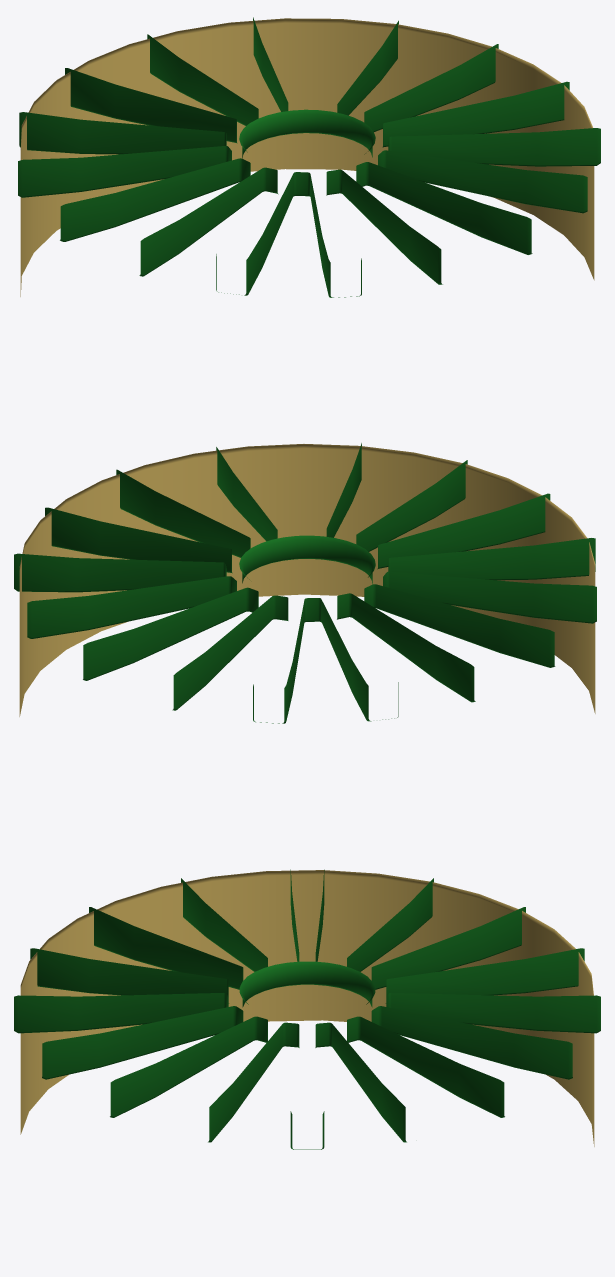
The model's file is brutalismModel_compressed.glb.
3 renders of one model, top to bottom at view 1: azimuth 30°, elevation 25°; view 2: azimuth 150°, elevation 25°; view 3: azimuth 270°, elevation 25°, orthographic.
Parts seen in each view (by area): view 1: basemenet_2026_low.001; view 2: basemenet_2026_low.001; view 3: basemenet_2026_low.001.
Part boxes in pixels (x1,y1,x2,y2): basemenet_2026_low.001: (18, 17, 600, 297); basemenet_2026_low.001: (14, 443, 596, 723); basemenet_2026_low.001: (14, 869, 600, 1149).
Bounding box in the file's own units: 45.95 × 13.24 × 45.95.
